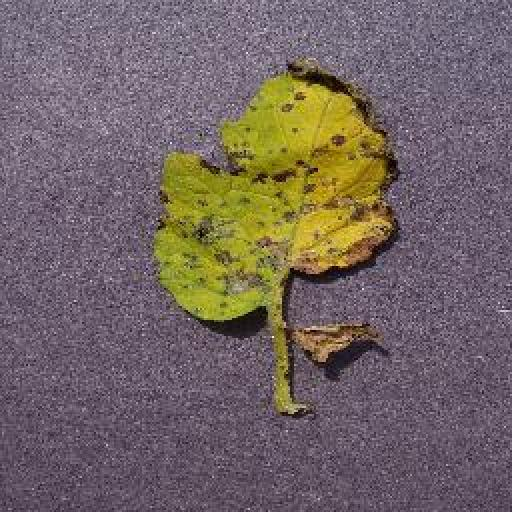disease_tomato: (154, 54, 399, 322)
